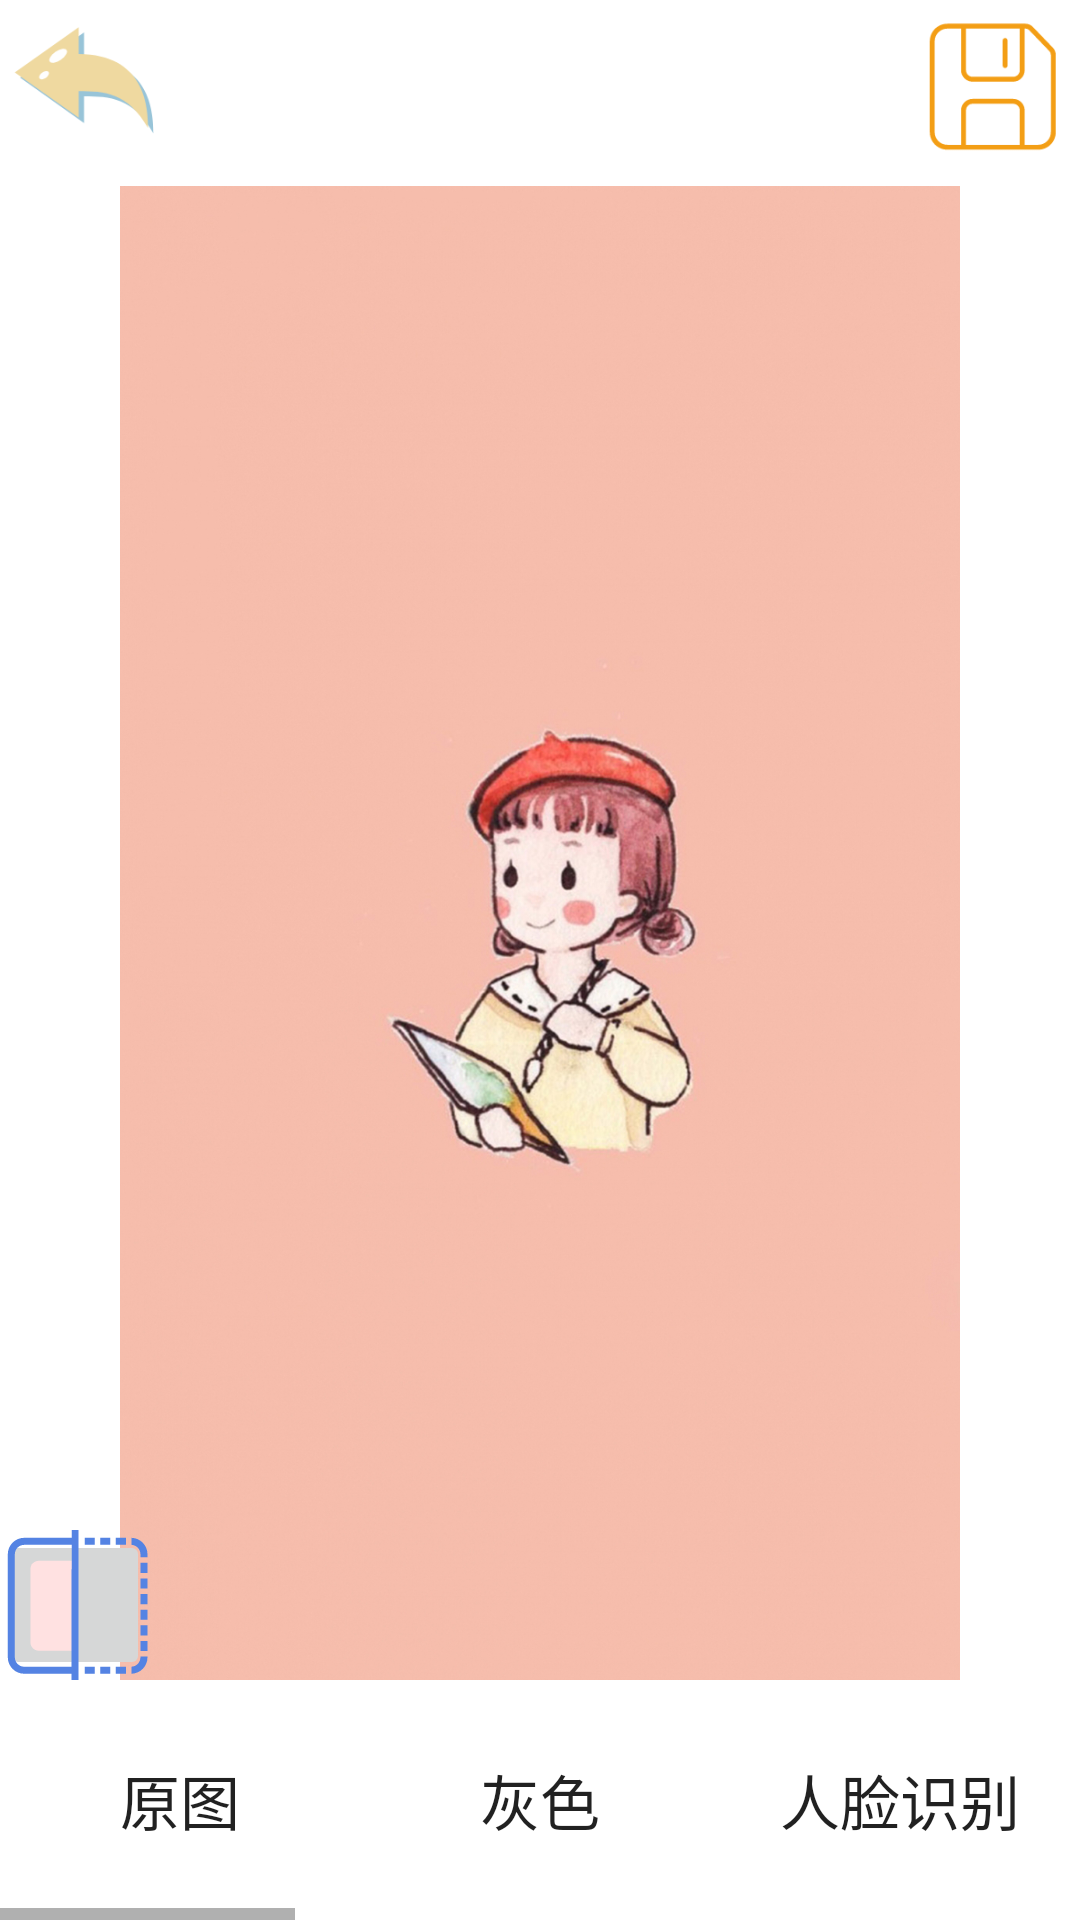

Icon click points for this 1080*1920 phone screenshot, format [x,y]:
back: [84,80]
contrast: [75,1605]
save: [992,86]
